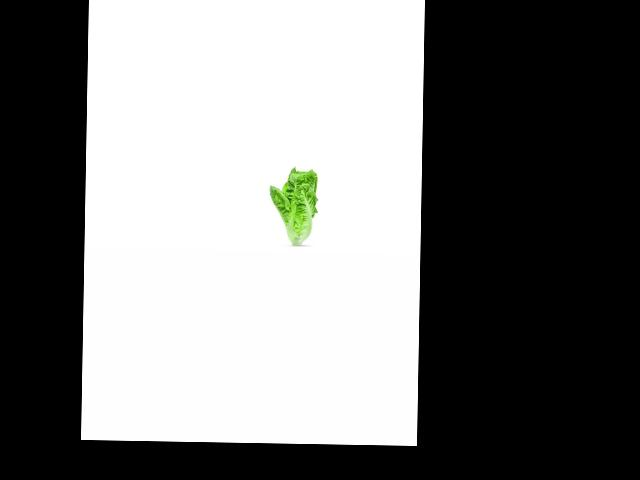lettuce: (268, 166, 321, 243)
